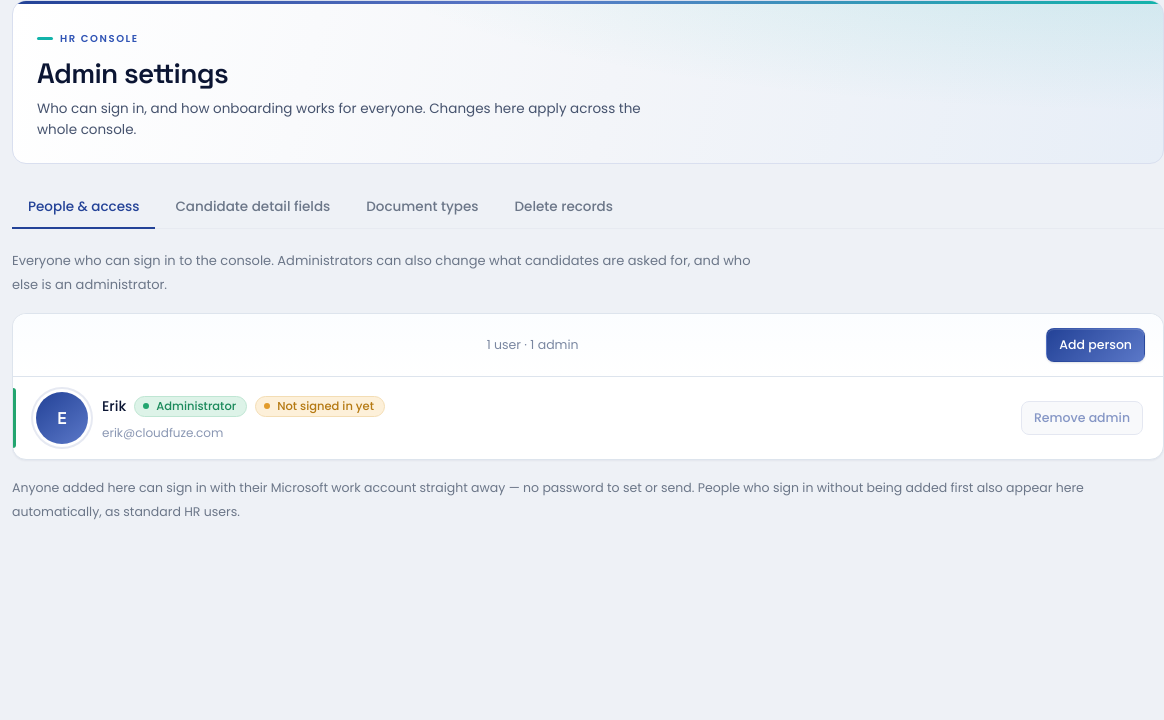
Test: AdminPage › reaches the document types from the same page
Expected: the text "erik@cloudfuze.com" is shown, [102, 424, 223, 440]
Click the button "Document types" at (422, 208), box [350, 186, 495, 229]
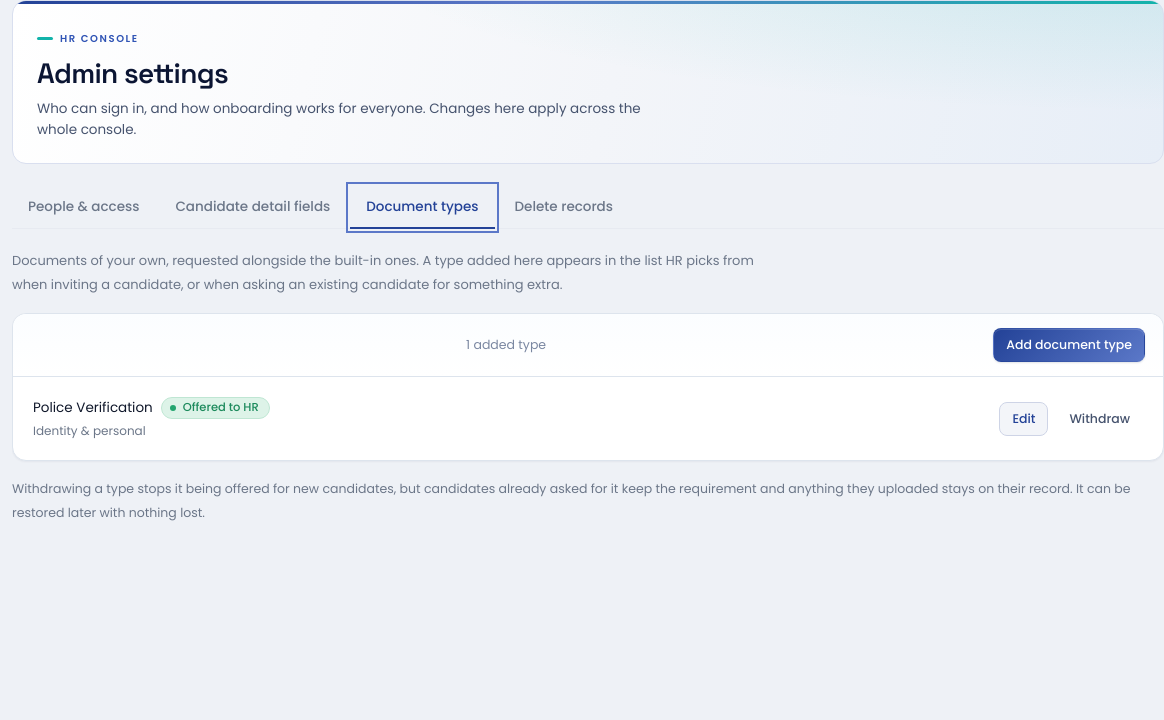
Result: the text "Police Verification" is shown at [33, 397, 153, 419]
Result: the text "erik@cloudfuze.com" is gone
